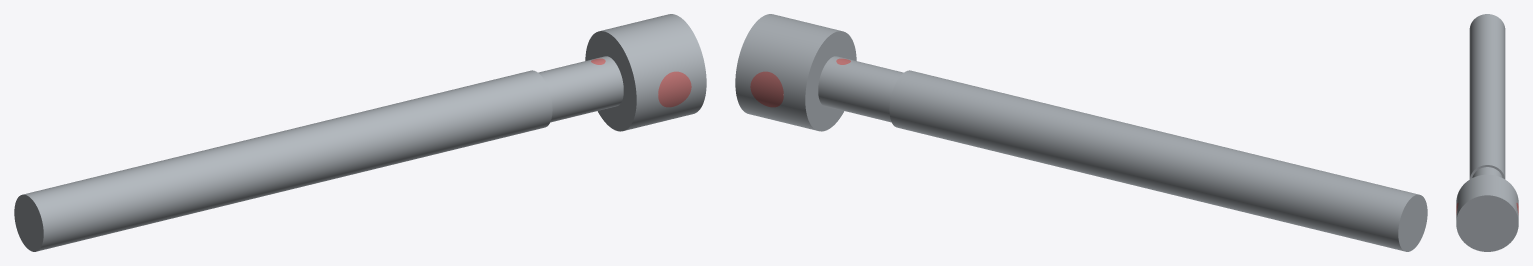
The model's file is step_16.glb.
The picture shows the model from 3 angles, left to right: view 1: azimuth 30°, elevation 25°; view 2: azimuth 150°, elevation 25°; view 3: azimuth 270°, elevation 25°; orthographic projection. The views are drawn at different scales.
Parts seen in each view (by area): view 1: part__lead screw, removed__lead screw; view 2: part__lead screw, removed__lead screw; view 3: part__lead screw.
Part boxes in pixels (bbox=[...]): part__lead screw: bbox=[14, 14, 706, 251]; removed__lead screw: bbox=[591, 58, 691, 107]; part__lead screw: bbox=[735, 14, 1427, 251]; removed__lead screw: bbox=[750, 58, 850, 107]; part__lead screw: bbox=[1456, 14, 1518, 251].
Bounding box in the file's own units: 205 × 27.98 × 28.
